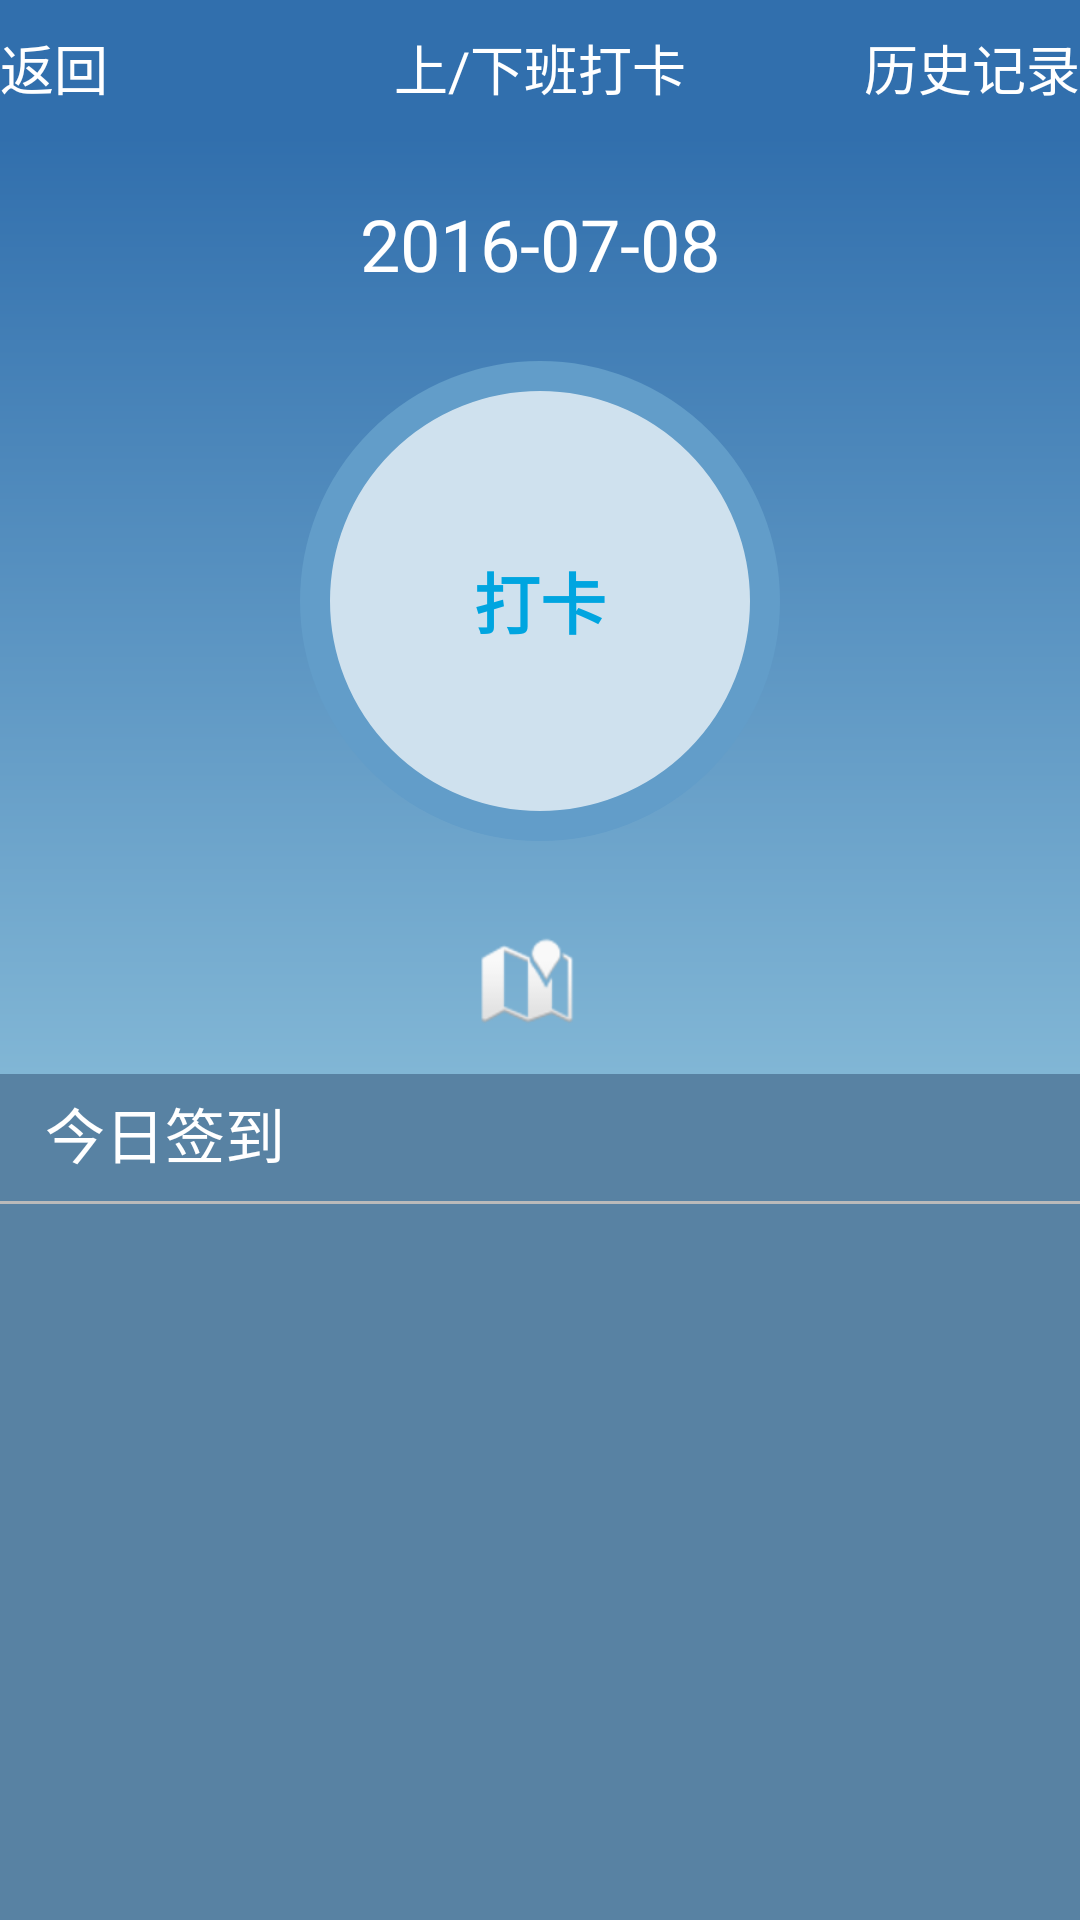

Icon bounding boxes for this 1080 × 1920 phone screenshot, format [left=x1, top=y1, right=x2, bottom=y2]:
map: [left=481, top=939, right=573, bottom=1022]
